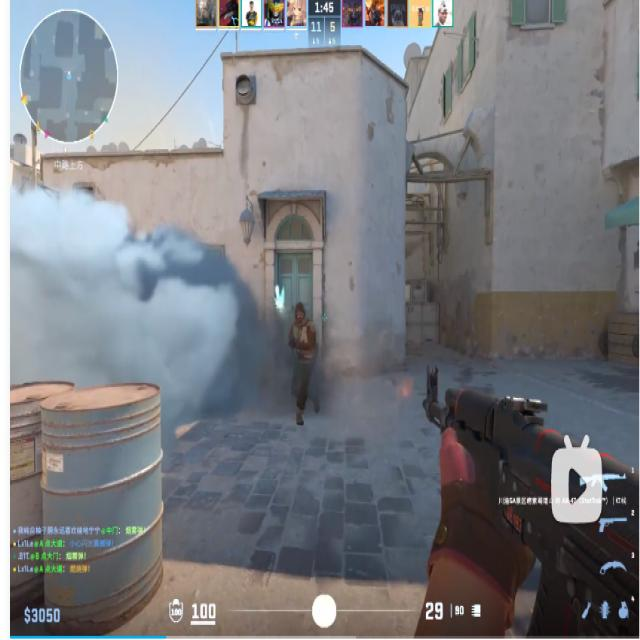person: (287, 301, 320, 425)
